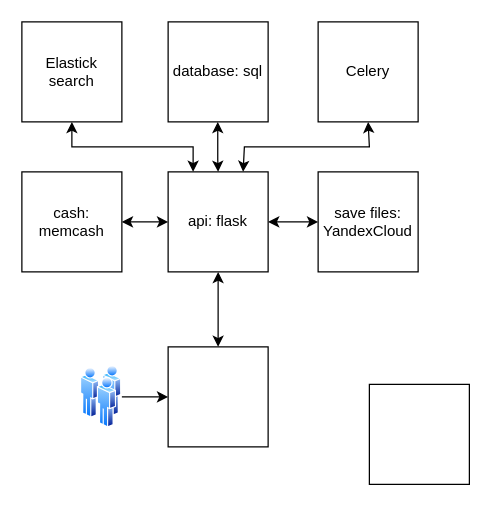
This 491x506 diagram has some shape labels left out. Each missing label, with the centre of its shape:
front : html, css, js: the point at 217,396
web server: nginx: the point at 418,433
